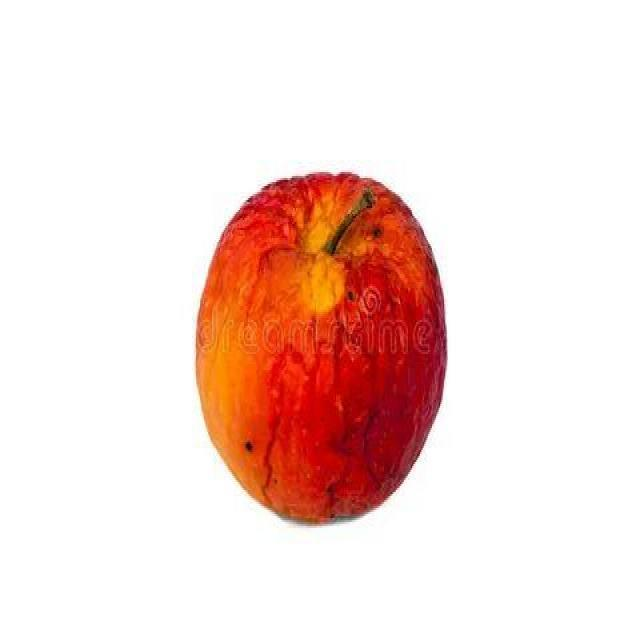Rotten: (183, 185, 462, 522)
